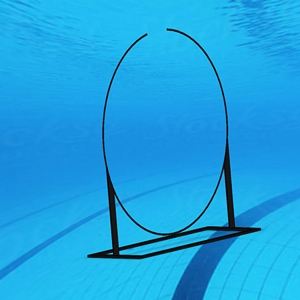circle: (85, 26, 263, 260)
